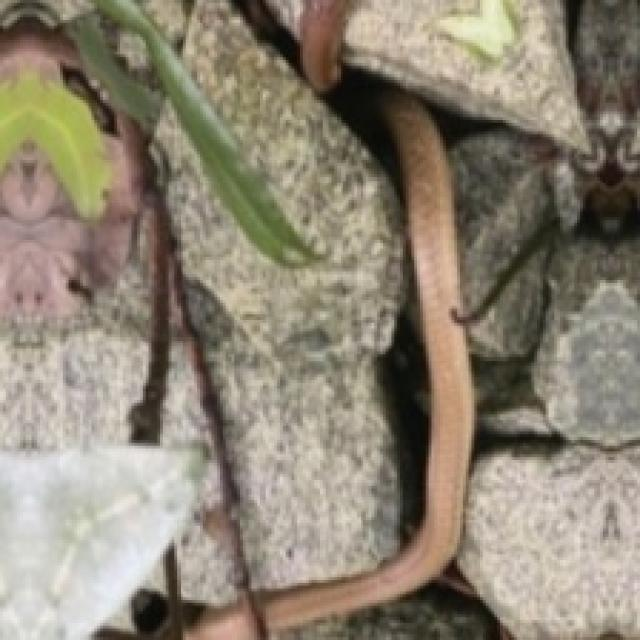king cobra: (263, 89, 475, 628), (300, 0, 347, 92), (185, 602, 255, 639)
